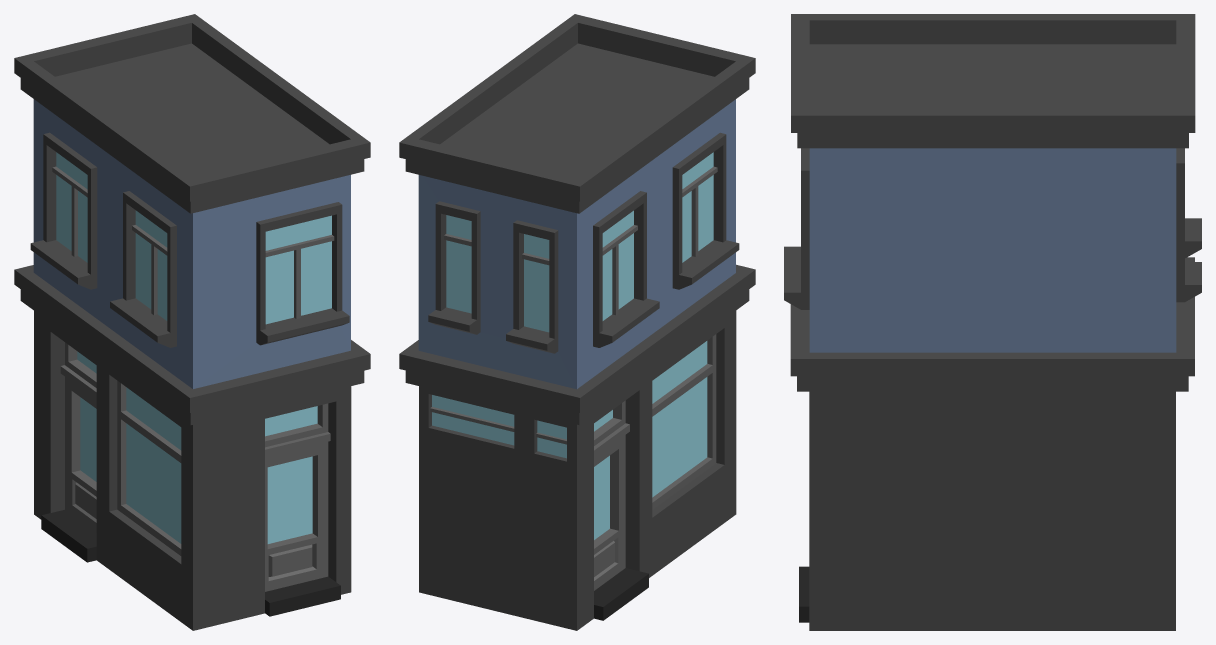
File: SmallApartment.fbx
3 views of the same model, side by side, from view 1: azimuth 30°, elevation 25°; view 2: azimuth 150°, elevation 25°; view 3: azimuth 270°, elevation 25° (orthographic). The views are drawn at different scales.
Parts seen in each view (by area): view 1: Cube.045; view 2: Cube.045; view 3: Cube.045.
Part boxes in pixels (x1,y1,x2,y2): Cube.045: (14, 14, 370, 630); Cube.045: (399, 14, 755, 630); Cube.045: (784, 14, 1201, 630).
Bounding box in the file's own units: 267 × 612 × 444.
